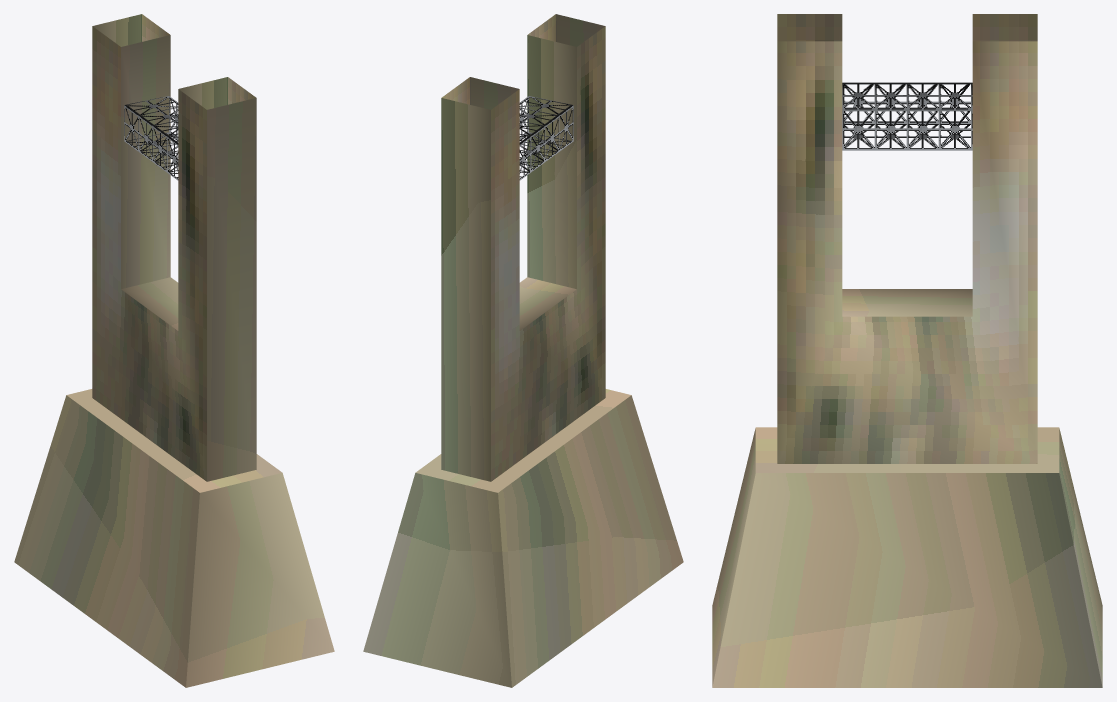
File: uvmd-0157.glb
The picture shows the model from 3 angles, left to right: view 1: azimuth 30°, elevation 25°; view 2: azimuth 150°, elevation 25°; view 3: azimuth 270°, elevation 25°; orthographic projection. The views are drawn at different scales.
Parts seen in each view (by area): view 1: uvmd-0157; view 2: uvmd-0157; view 3: uvmd-0157.
Boxes of the visible parts, box(x1,y1,x2,y2) form: uvmd-0157: box(14, 14, 334, 687); uvmd-0157: box(363, 14, 683, 687); uvmd-0157: box(712, 14, 1102, 687).
Size of the model in its own units: 90 by 315 by 180.
Materials: 2 (2 with a texture image).
